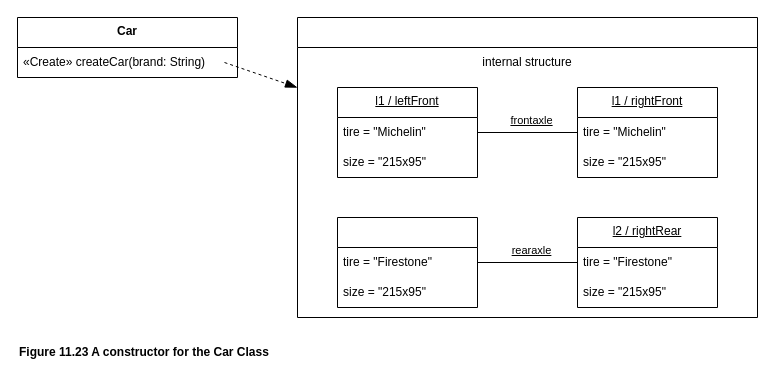
The diagram is 775 pixels wide and 385 high, and some of its shapes have lost their labels. The box of each missing label's shape, as (x1, y1, x2, y2) in pixels:
:Car: (296, 16, 758, 318)
l2 / leftRear: (336, 216, 478, 308)
